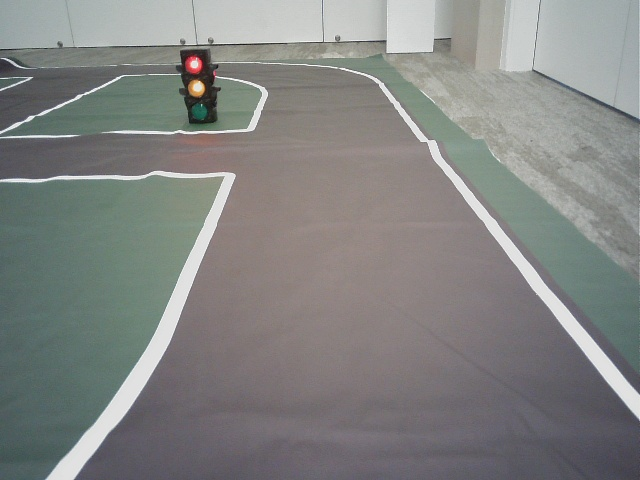red: (182, 55, 214, 123)
